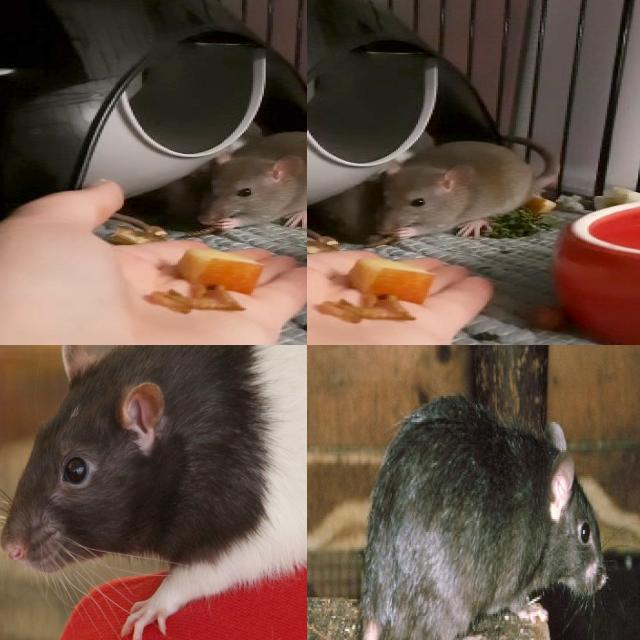rat: (0, 345, 307, 621), (343, 375, 625, 640), (366, 138, 537, 241), (198, 129, 307, 231)
